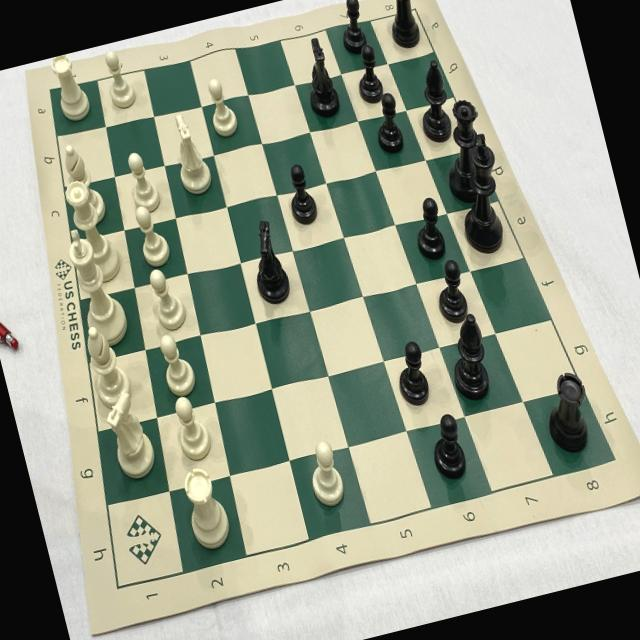black-bishop: (536, 367, 600, 456), (440, 313, 496, 403), (406, 58, 456, 146), (380, 0, 426, 50)
black-king: (442, 130, 516, 258)
black-knight: (241, 215, 296, 307), (294, 31, 344, 122)
black-pawn: (388, 336, 436, 410), (424, 410, 471, 483), (407, 192, 452, 264), (428, 258, 473, 327), (278, 157, 321, 225), (368, 88, 408, 156), (348, 42, 388, 106), (332, 0, 370, 54)
black-queen: (431, 95, 499, 206)
white-bishop: (80, 321, 136, 412), (59, 138, 110, 228)
white-king: (62, 221, 133, 352)
white-knight: (96, 388, 162, 482), (165, 107, 215, 197)
white-pawn: (164, 392, 217, 466), (149, 330, 201, 403), (140, 263, 192, 335), (302, 440, 350, 514), (120, 147, 164, 216), (130, 202, 174, 270), (98, 44, 140, 114), (200, 73, 241, 141)
white-queen: (60, 172, 126, 288)
white-rook: (177, 463, 235, 554), (46, 51, 92, 123)
